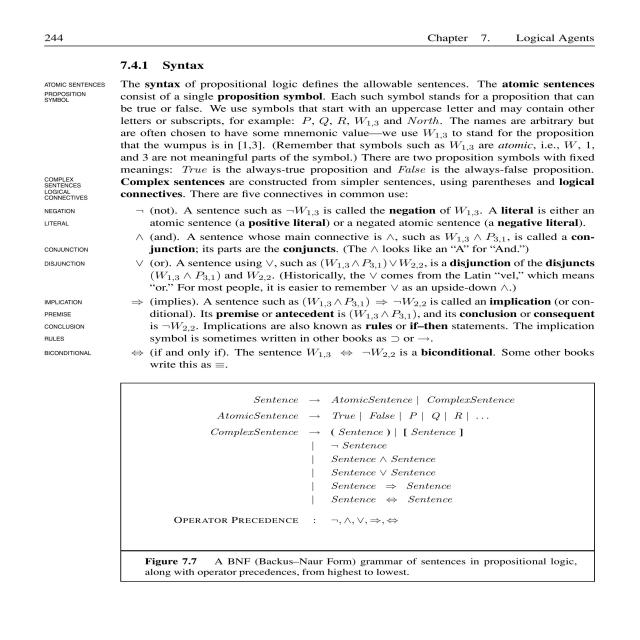diagram: (52, 366, 640, 640)
